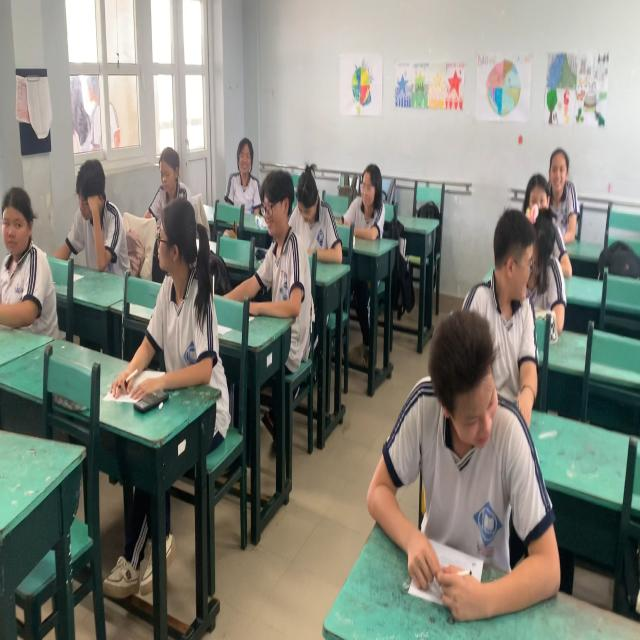cheating: (476, 212, 542, 409), (150, 198, 222, 370), (0, 181, 48, 333)
not_cheating: (389, 312, 565, 589), (249, 171, 313, 329), (70, 142, 117, 271), (297, 156, 344, 264), (544, 135, 579, 229), (219, 140, 264, 212), (352, 160, 391, 239), (151, 144, 196, 212)
